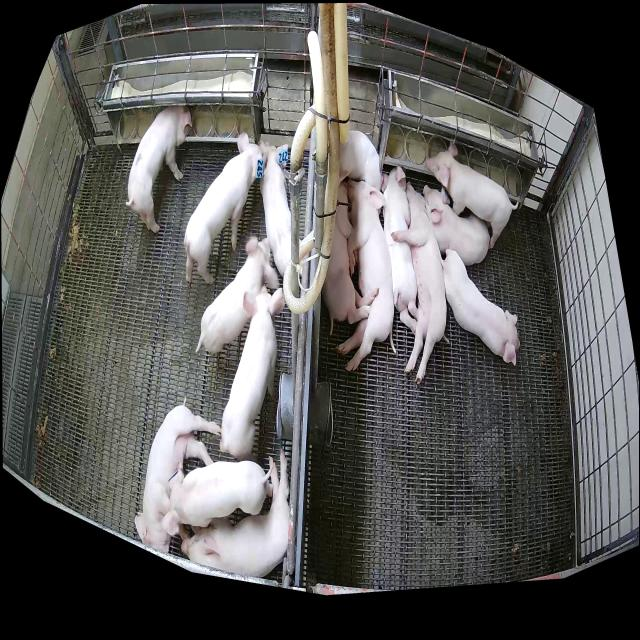pig: (182, 449, 290, 577), (135, 397, 221, 553), (184, 133, 265, 284), (219, 285, 285, 459), (392, 183, 450, 380), (337, 179, 396, 372), (425, 140, 519, 249), (196, 237, 279, 354), (321, 179, 379, 337), (442, 249, 520, 365), (166, 460, 272, 540), (126, 107, 192, 233), (381, 166, 420, 330), (423, 186, 490, 264), (258, 140, 291, 276), (340, 129, 381, 191)
